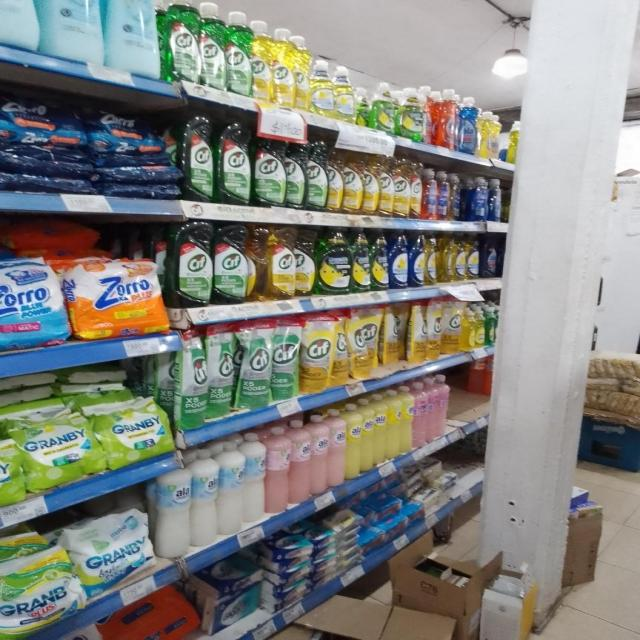ala_crem_amarillo: (346, 403, 361, 480), (374, 392, 387, 467), (362, 398, 374, 474)
ala_crem_rosado: (266, 426, 289, 514), (290, 419, 311, 505), (311, 413, 328, 496), (328, 408, 345, 488)
cif_conc_bot_amarilla: (267, 226, 294, 300), (272, 26, 294, 108), (252, 19, 272, 105), (295, 226, 316, 298), (294, 31, 310, 112), (344, 148, 363, 214), (327, 144, 343, 213), (393, 160, 409, 218), (364, 154, 378, 215), (379, 157, 393, 217), (410, 165, 422, 219)
cif_conc_botella_verde: (170, 221, 211, 307), (217, 116, 251, 206), (183, 110, 215, 204), (163, 0, 198, 85), (214, 223, 248, 304), (254, 127, 284, 208), (226, 9, 250, 97), (200, 2, 224, 90), (285, 131, 305, 210), (306, 136, 326, 212)
cif_conc_sachet_amarillo: (301, 313, 332, 393), (350, 306, 378, 381), (381, 303, 406, 367), (332, 310, 349, 387), (408, 301, 427, 364)
cif_conc_sachet_verde: (238, 320, 270, 410), (209, 324, 235, 419), (272, 317, 299, 401)
magistral_con_amarillo: (311, 60, 334, 116), (334, 65, 356, 122), (466, 232, 480, 280)
magistral_con_azul: (389, 229, 409, 289), (409, 231, 424, 287)
